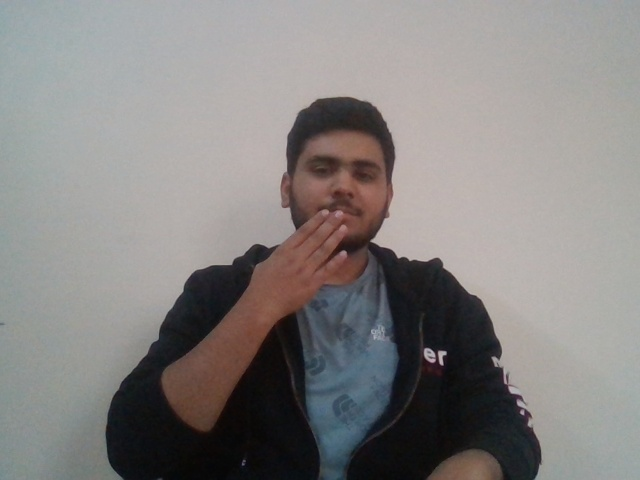Thanks: (242, 200, 397, 303)
